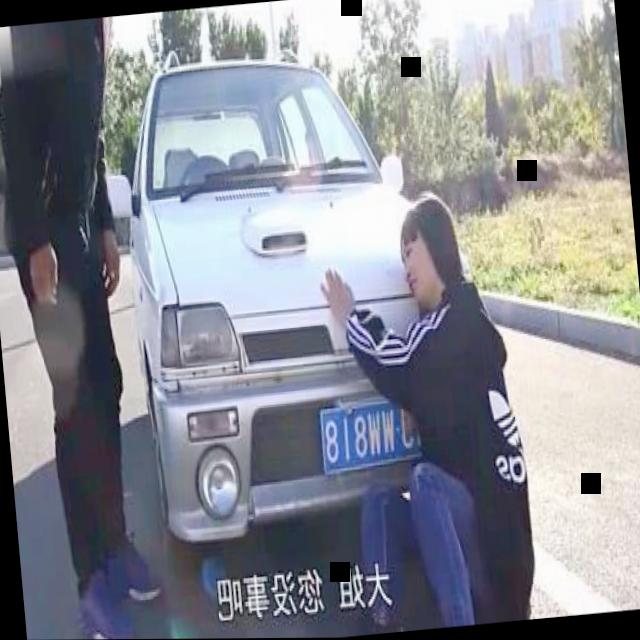Fall-Detected: (299, 184, 556, 629)
